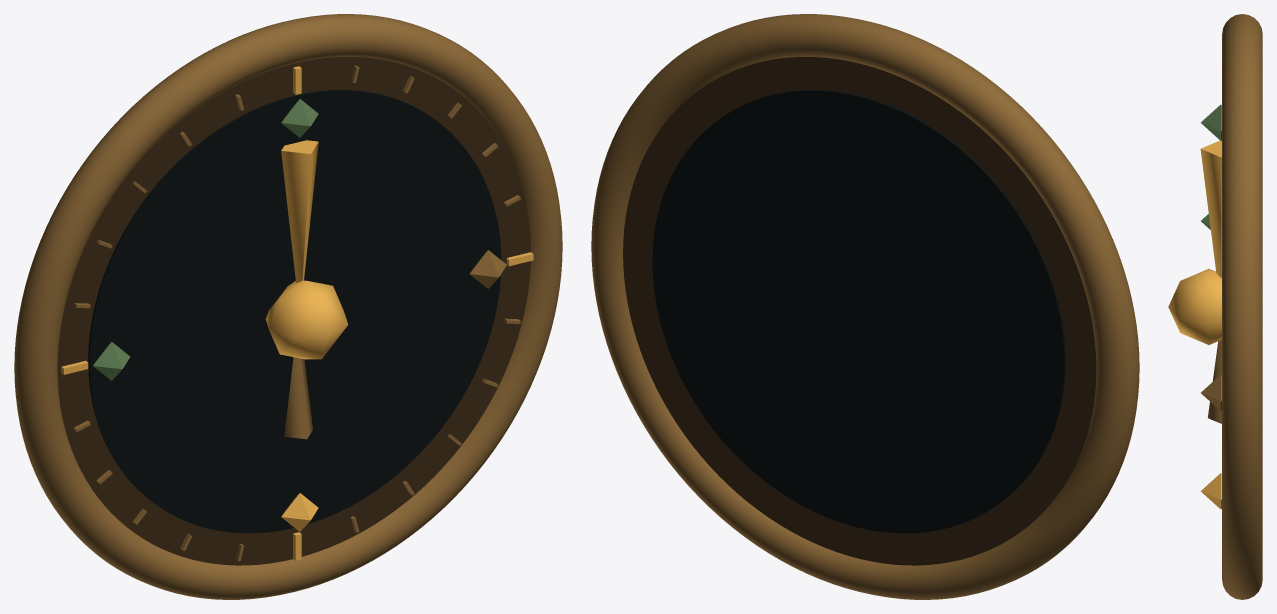
The model's file is quest-compass.glb.
3 renders of one model, left to right at view 1: azimuth 30°, elevation 25°; view 2: azimuth 150°, elevation 25°; view 3: azimuth 270°, elevation 25°, orthographic. The views are drawn at different scales.
Parts seen in each view (by area): view 1: ObsidianFace, OuterRing, Backplate, Needle, LivingCore, BodyRune, MindRune, DiscoveryRune, GuildRune; view 2: ObsidianFace, OuterRing, Backplate; view 3: OuterRing, LivingCore, Needle, MindRune, BodyRune, DiscoveryRune.
Boxes of the visible parts, x1,y1,x2,y2 form: ObsidianFace: [88, 90, 501, 533]; OuterRing: [14, 14, 562, 599]; Backplate: [57, 57, 530, 565]; Needle: [281, 140, 318, 439]; LivingCore: [265, 280, 348, 359]; BodyRune: [469, 250, 506, 288]; MindRune: [281, 99, 318, 137]; DiscoveryRune: [281, 493, 318, 531]; GuildRune: [93, 342, 130, 380]; ObsidianFace: [652, 90, 1065, 533]; OuterRing: [591, 14, 1139, 599]; Backplate: [623, 57, 1096, 565]; OuterRing: [1222, 14, 1262, 599]; LivingCore: [1168, 269, 1221, 344]; Needle: [1200, 140, 1221, 423]; MindRune: [1200, 104, 1221, 140]; BodyRune: [1201, 375, 1221, 410]; DiscoveryRune: [1200, 473, 1221, 509].
Bounding box in the file's own units: 4.9 × 4.9 × 0.79.
